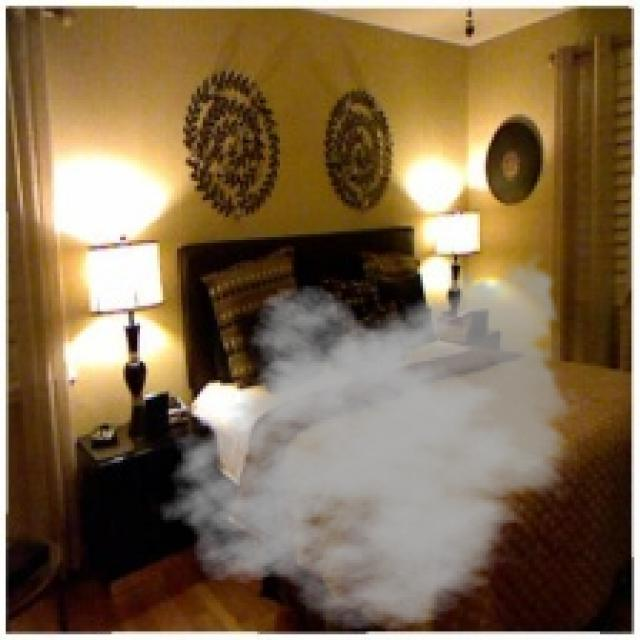smoke: (157, 246, 583, 631)
